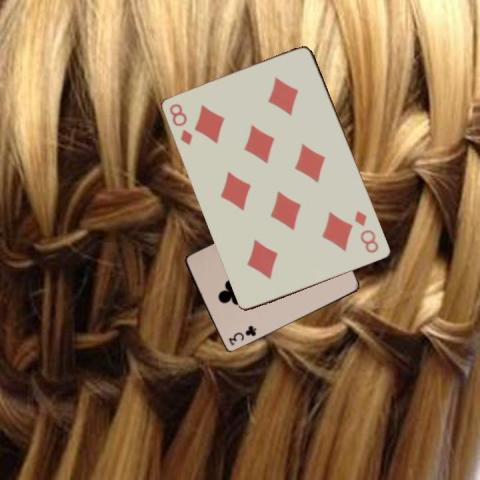3c: (226, 323, 258, 347)
8d: (352, 207, 381, 255), (166, 100, 194, 146)
